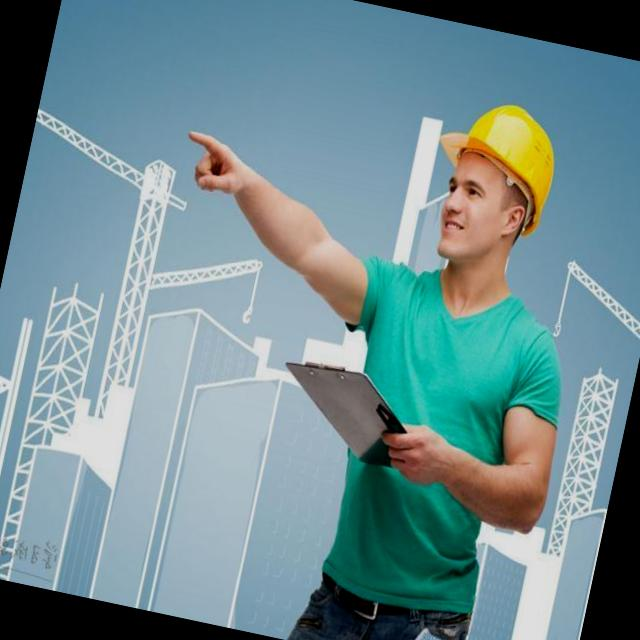helmet: (423, 95, 578, 222)
no-vest: (285, 248, 578, 617)
